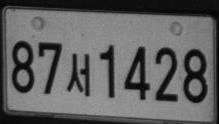1: (97, 44, 122, 98)
2: (154, 46, 178, 101)
4: (123, 46, 150, 100)
7: (38, 41, 63, 94)
8: (182, 47, 208, 104), (11, 39, 35, 93)
서: (66, 53, 91, 96)
